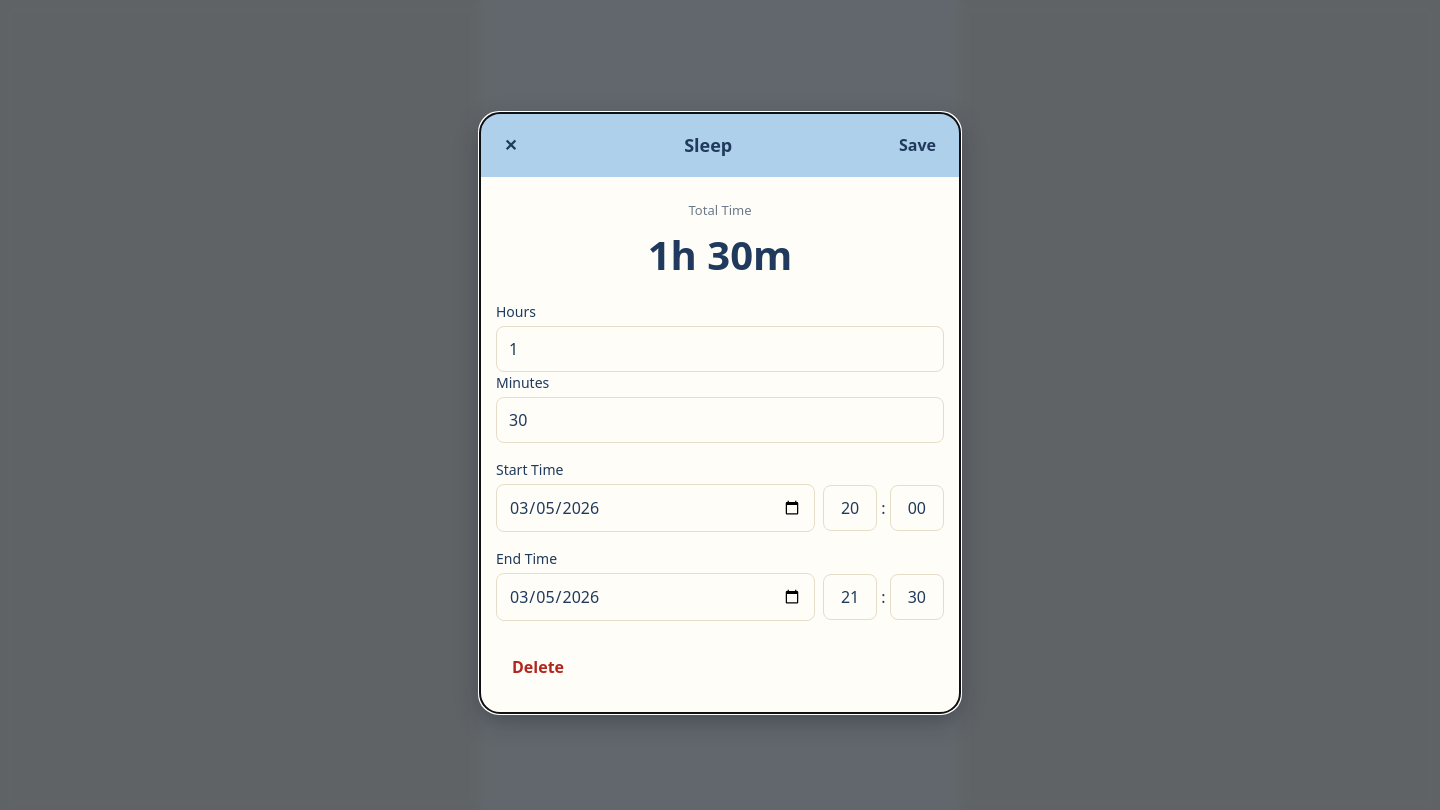
Test: SleepEntryEditModal › adapts the end time when the duration is edited, keeping the start time fixed
Replace the text in the number field labelled "Hours" with "0" at (720, 349), box left=496, top=326, right=944, bottom=372
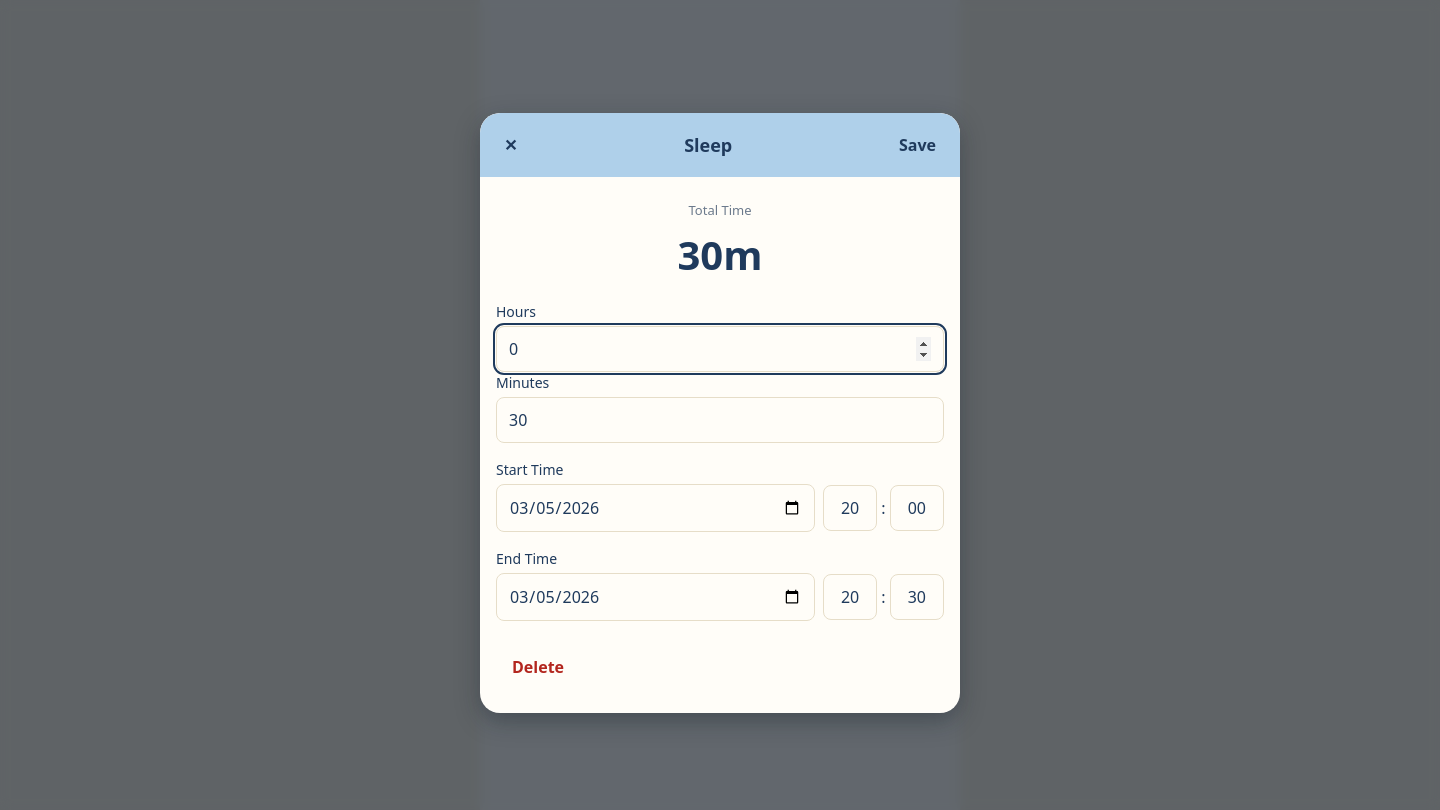
Replace the text in the number field labelled "Minutes" with "45" at (720, 420), box left=496, top=397, right=944, bottom=443
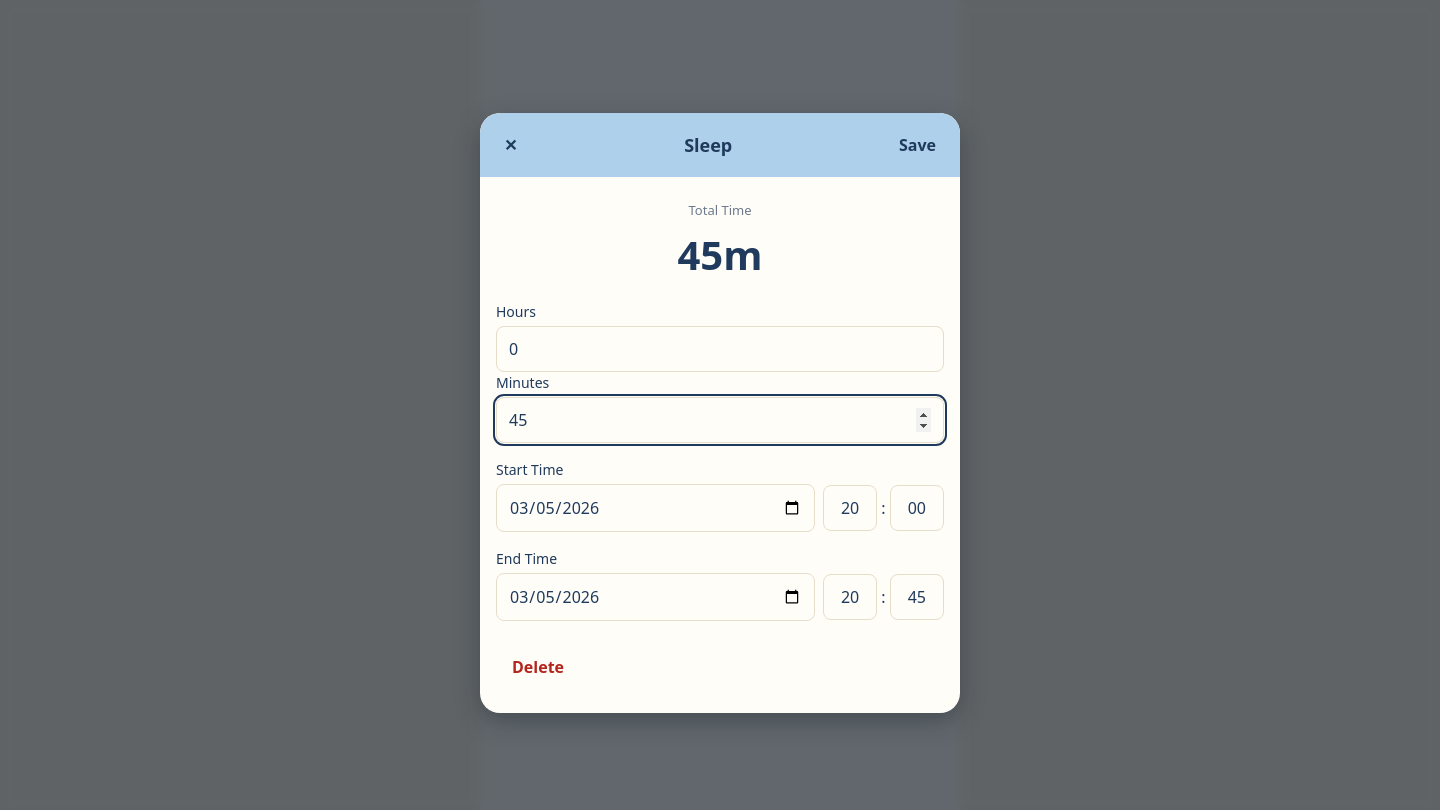
Now the text "45m" is shown, box left=678, top=227, right=762, bottom=282
